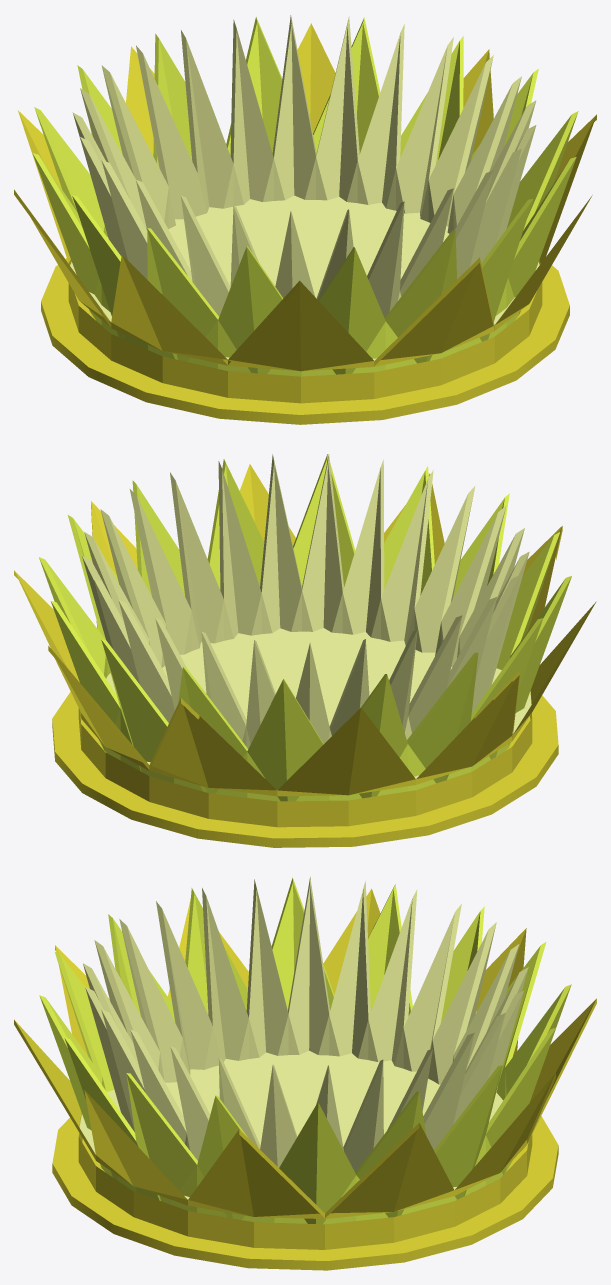
File: portal_abrir_000029.obj
The picture shows the model from 3 angles, top to bottom: view 1: azimuth 30°, elevation 25°; view 2: azimuth 150°, elevation 25°; view 3: azimuth 270°, elevation 25°; orthographic projection. The views are drawn at different scales.
Visible parts, largest first — view 1: pCylinder1, Cylinder.001, Cylinder; view 2: pCylinder1, Cylinder.001, Cylinder; view 3: pCylinder1, Cylinder.001, Cylinder.
Part boxes in pixels (x1,y1,x2,y2): pCylinder1: [14, 23, 596, 424]; Cylinder.001: [72, 15, 536, 317]; Cylinder: [32, 17, 578, 376]; pCylinder1: [14, 464, 596, 847]; Cylinder.001: [82, 454, 529, 748]; Cylinder: [39, 454, 571, 801]; pCylinder1: [14, 888, 596, 1270]; Cylinder.001: [83, 877, 528, 1172]; Cylinder: [39, 877, 571, 1224].
Bounding box in the file's own units: 5.35 × 2 × 5.47.
Materials: 4 (4 with a texture image).
